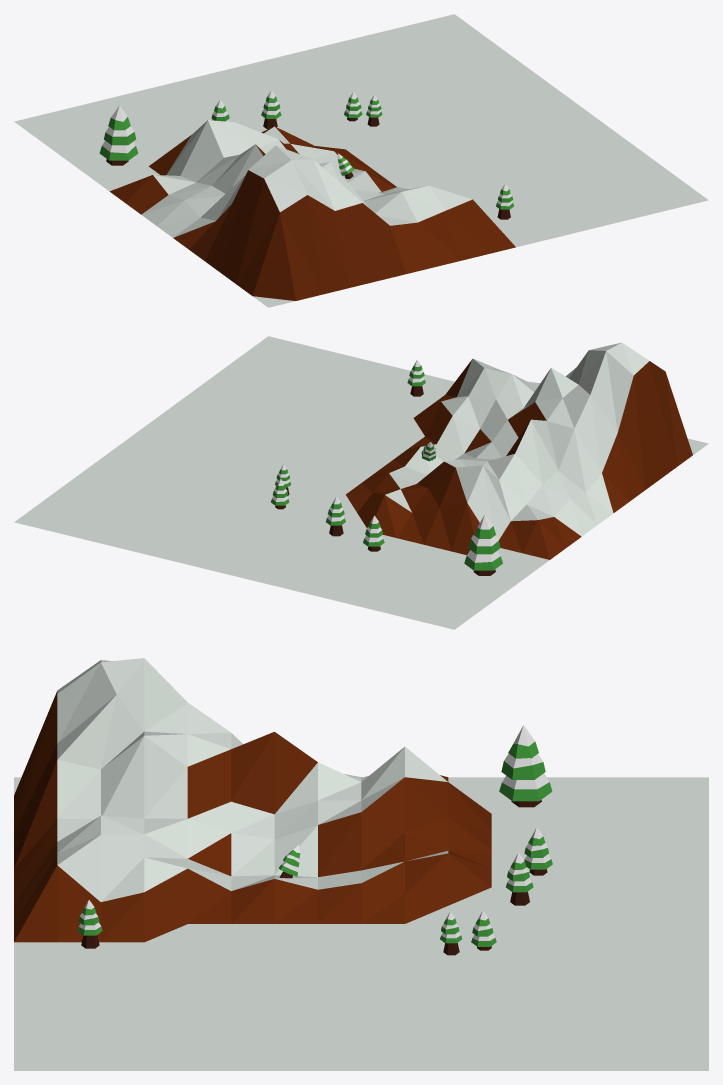
Rendered from Arctic Mountain.fbx.
The picture shows the model from 3 angles, top to bottom: view 1: azimuth 30°, elevation 25°; view 2: azimuth 150°, elevation 25°; view 3: azimuth 270°, elevation 25°; orthographic projection. The views are drawn at different scales.
Parts seen in each view (by area): view 1: Plane, Cylinder.005, Cylinder.001; view 2: Plane, Cylinder.005, Cylinder.001, Cylinder.006; view 3: Plane, Cylinder.005, Cylinder.001, Cylinder.006, Cylinder.004, Cylinder.003, Cylinder.002.
Boxes of the visible parts, <box> form: Plane: <box>14,14,708,307</box>; Cylinder.005: <box>99,105,138,165</box>; Cylinder.001: <box>261,90,281,129</box>; Plane: <box>14,336,708,629</box>; Cylinder.005: <box>464,514,502,575</box>; Cylinder.001: <box>326,496,345,536</box>; Cylinder.006: <box>363,515,384,551</box>; Plane: <box>14,658,708,1070</box>; Cylinder.005: <box>499,725,552,807</box>; Cylinder.001: <box>506,852,533,905</box>; Cylinder.006: <box>524,827,552,875</box>; Cylinder.004: <box>77,900,102,948</box>; Cylinder.003: <box>471,910,496,950</box>; Cylinder.002: <box>440,911,461,955</box>.
Bounding box in the file's own units: 1600 × 448 × 1600.
